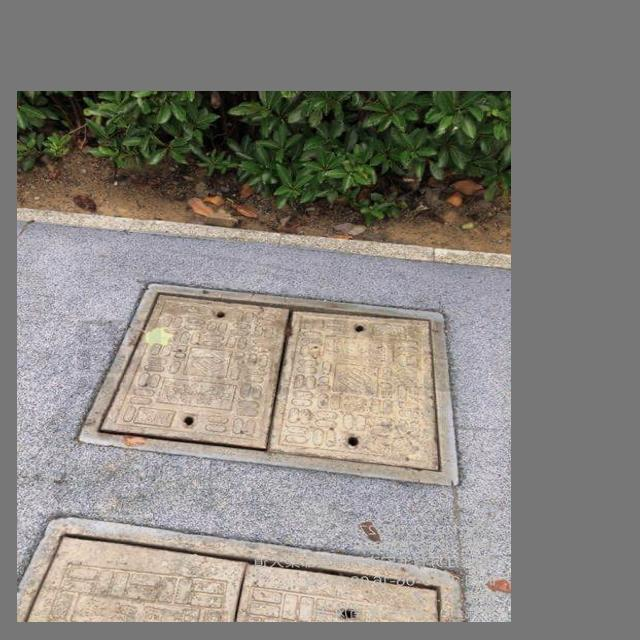good: (78, 280, 461, 485), (17, 517, 461, 622)
